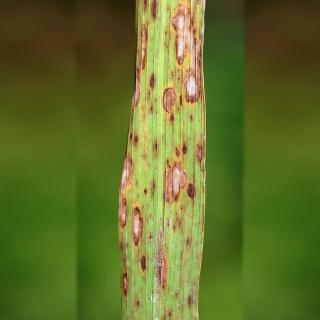Blast: (114, 204, 160, 306), (162, 231, 206, 316), (130, 5, 159, 114), (154, 143, 188, 213), (116, 128, 145, 202), (171, 1, 203, 65), (182, 72, 210, 108), (160, 77, 180, 123), (191, 133, 205, 164), (185, 178, 197, 202)
